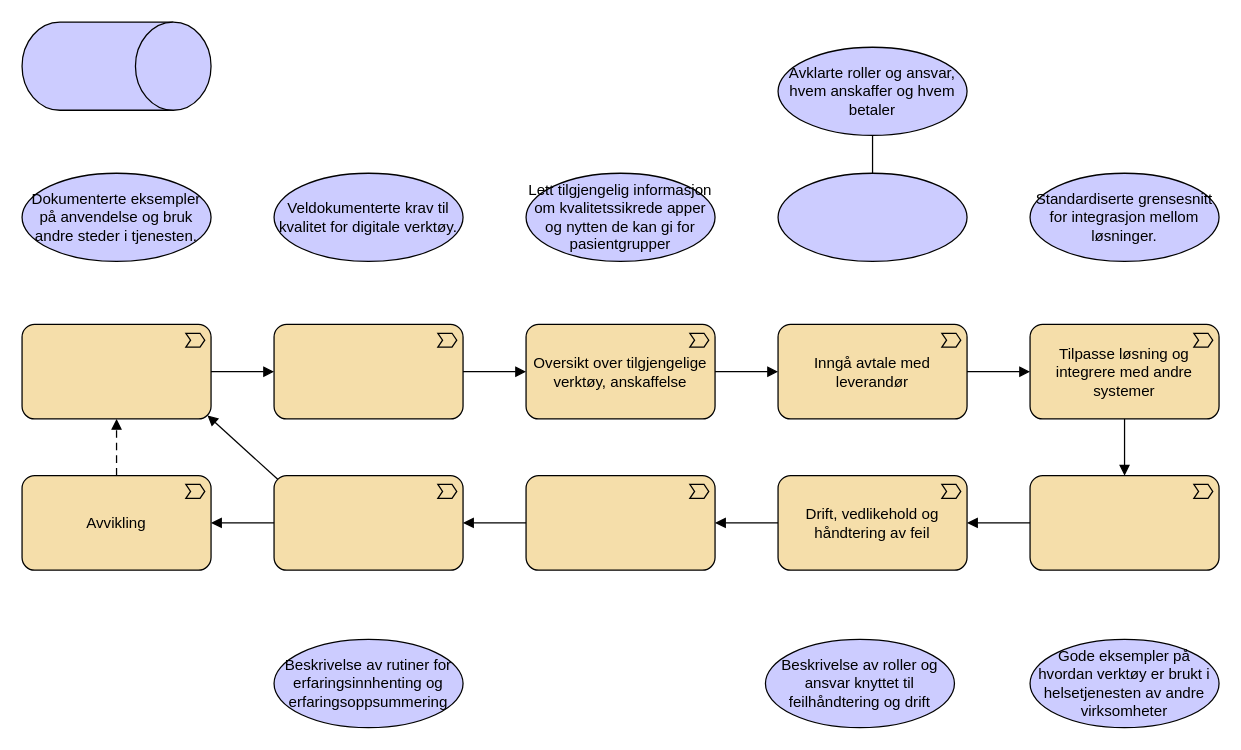
Image size: 1241x750. Some labels were removed from this diagram. Each missing label, with the box of its shape:
Beskrive krav til kvalitet, godkjenning, integrasjoner og pris: (273, 323, 463, 419)
Erfaring: (273, 474, 463, 570)
Finansiering og insentivordninger for virksomhetene: (777, 172, 967, 261)
Helsevirksomheter: (21, 21, 211, 110)
Opplæring og justering av prosesser: (1029, 474, 1219, 570)
Oversikt/prioritering av behov i virksomheten: (21, 323, 211, 419)
Samhandling med andre løsninger/tjenester: (525, 474, 715, 570)
